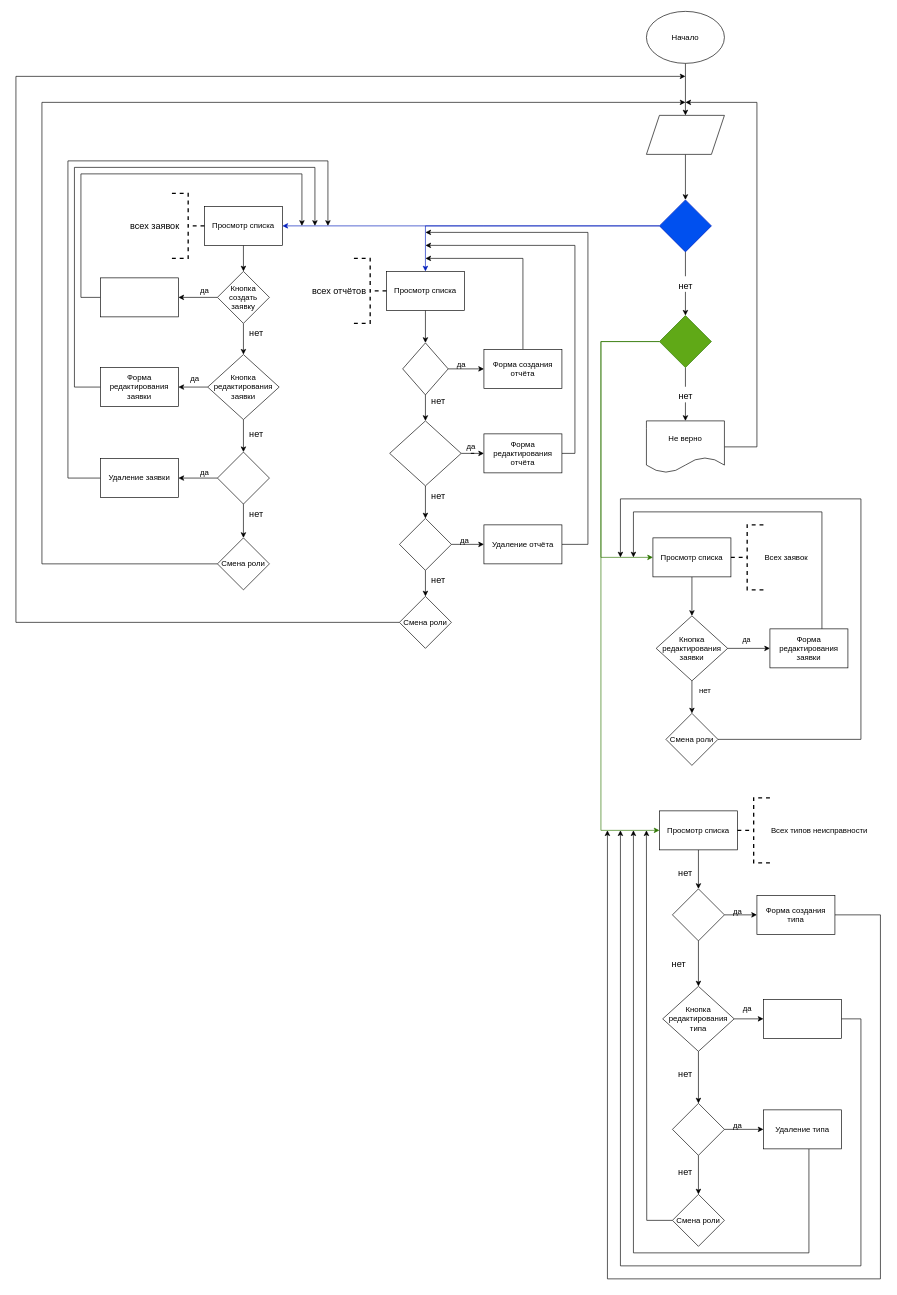
Image size: 897x1295. Some labels were removed from this diagram. Each missing label, with the centre of its shape:
Кнопка редактирования отчёта: pixel 425 453
Кнопка создать отчёт: pixel 425 368
Кнопка создать тип: pixel 698 914
Кнопка удаления заявки: pixel 243 477
Кнопка удаления отчёта: pixel 425 544
Кнопка удаления типа: pixel 698 1129
Логин, Пароль: pixel 685 134
Менеджер: pixel 685 225
Работник: pixel 685 341
Форма редактирования типа: pixel 802 1018
Форма создания заявки: pixel 139 297
